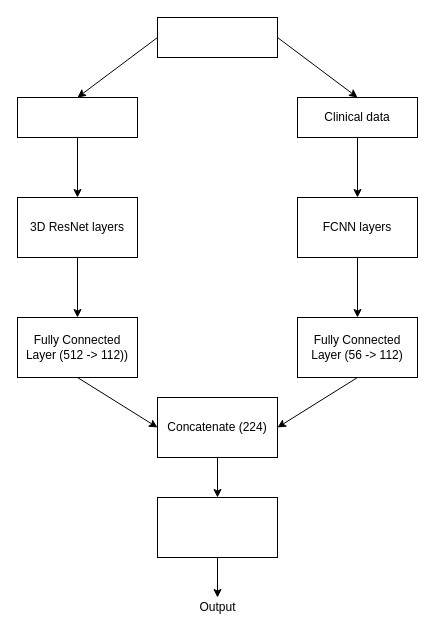
This 435x635 diagram has some shape labels left out. The centre of each missing label's shape, as x and y in pixels:
"DataLoader" goes at (217,37).
"Fully Connected Layer (224 -> 10)" goes at (217,527).
"MRI data" goes at (77,117).
